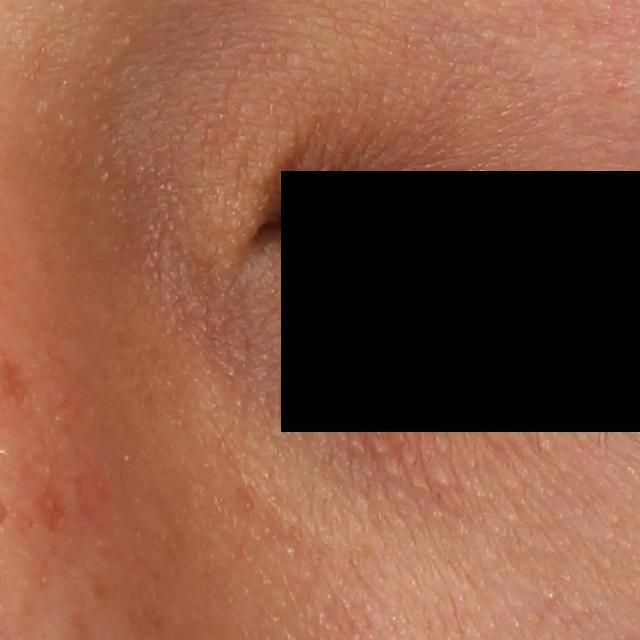melasma: (28, 482, 66, 537), (82, 567, 110, 600)
